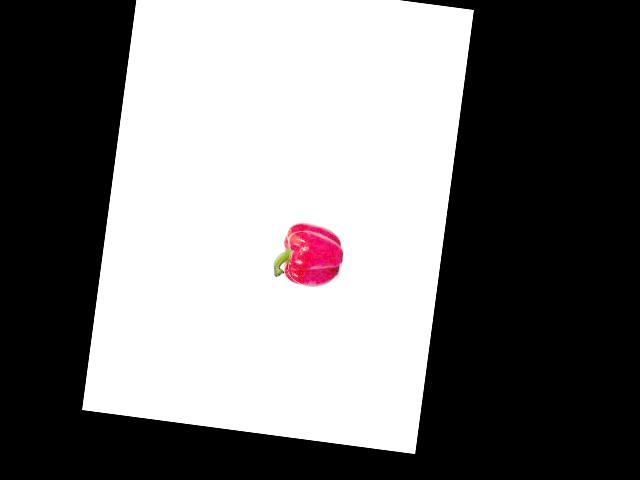bell_pepper: (270, 215, 346, 291)
